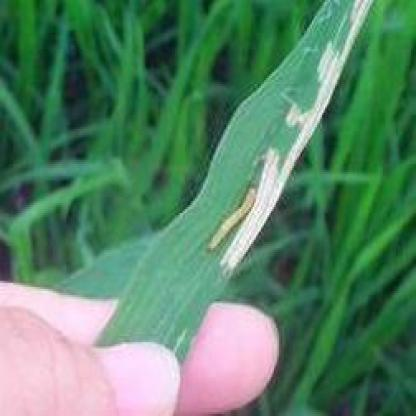leaf-folder: (199, 172, 276, 266)
